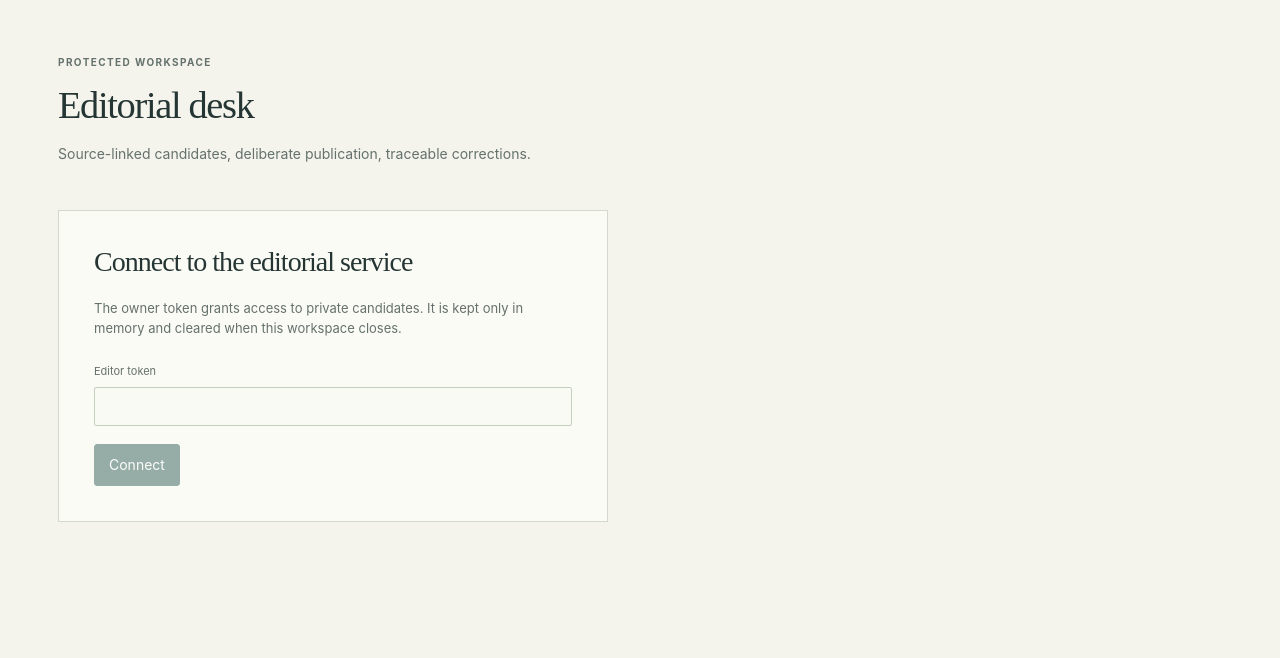
Test: bounded editorial queues › renders one 50-record page from a large store and replaces it on next/previous
Type "test-runtime-token" into the password field labelled "Editor token" at x=333, y=407, box [94,387,572,426]
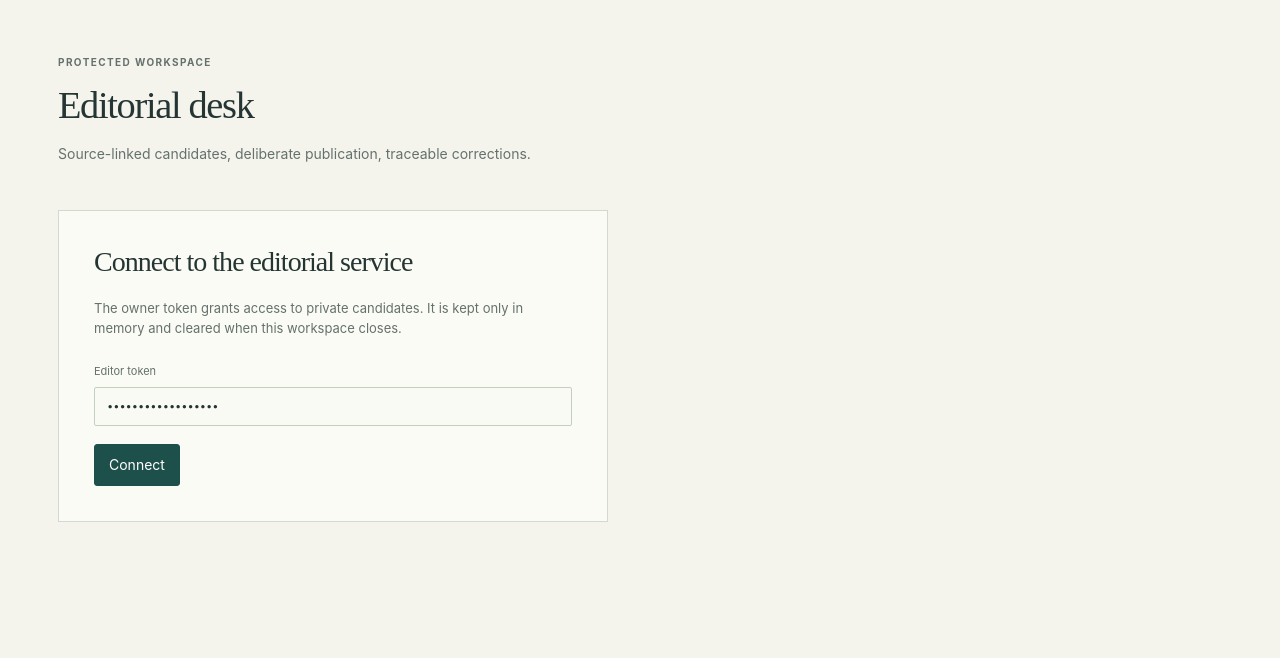
Click the button "Connect" at x=137, y=465, box [94,444,180,486]
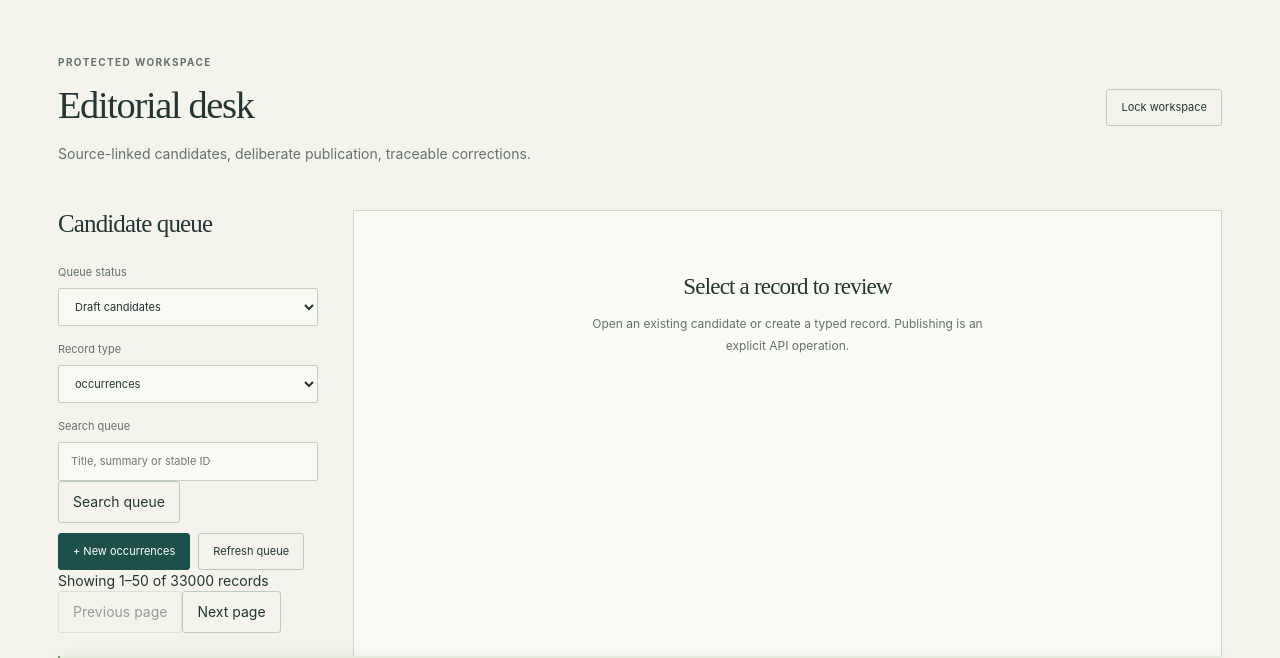
Check: the heading "Candidate queue" is shown, box [58,210,212,237]
Check: the text "Showing 1–50 of 33000 records" is shown, box [58,572,269,589]
Check: the button "Previous page" is disabled, box [58,591,182,633]
Click the button "Next page" at x=232, y=612, box [182,591,281,633]
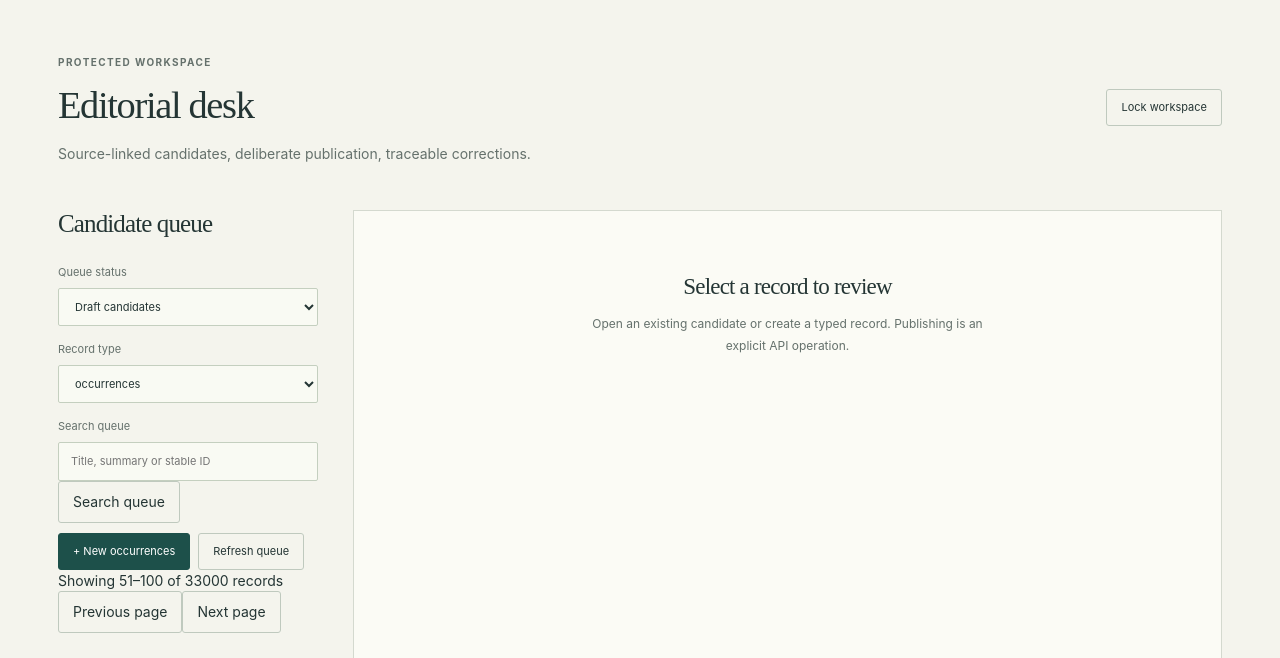
Check: the text "second-0" is shown 50 times
Check: the text "Showing 51–100 of 33000 records" is shown, box [58,570,318,591]
Click the button "Previous page" at x=120, y=612, box [58,591,182,633]
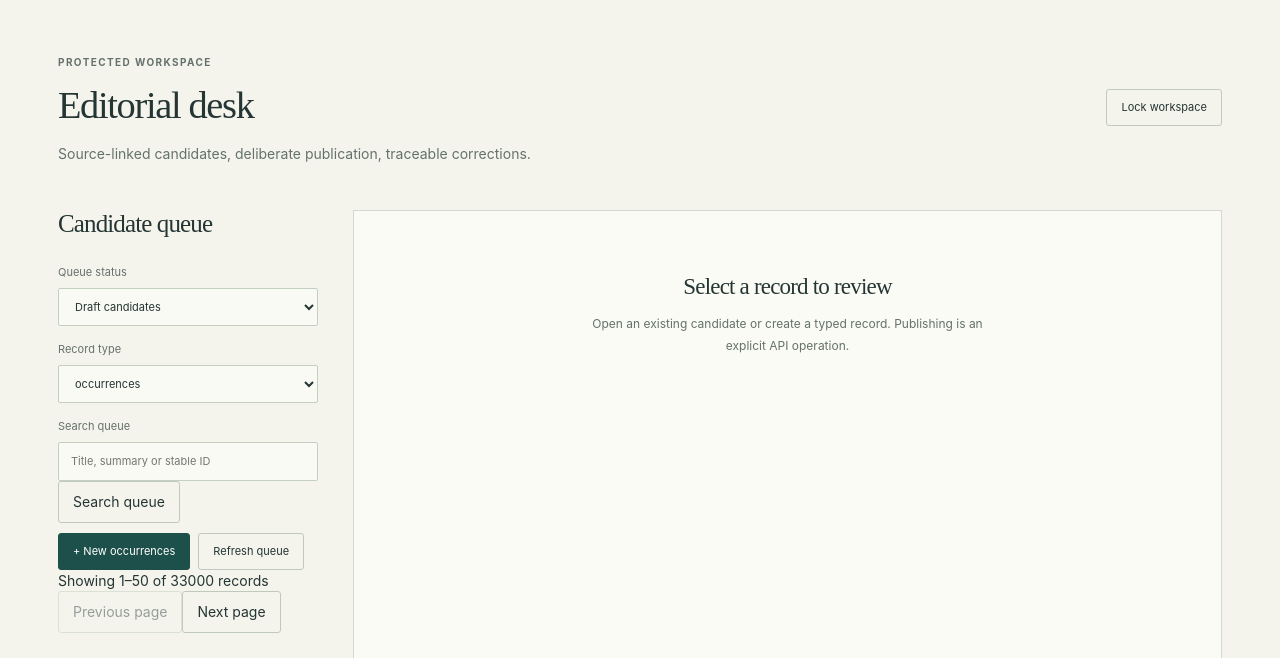
Check: the text "Showing 1–50 of 33000 records" is shown, box [58,572,269,589]
